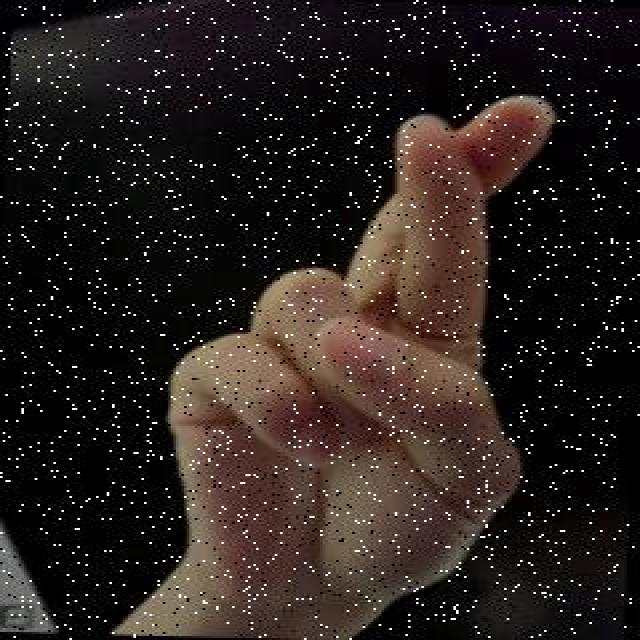R: (149, 78, 568, 640)
